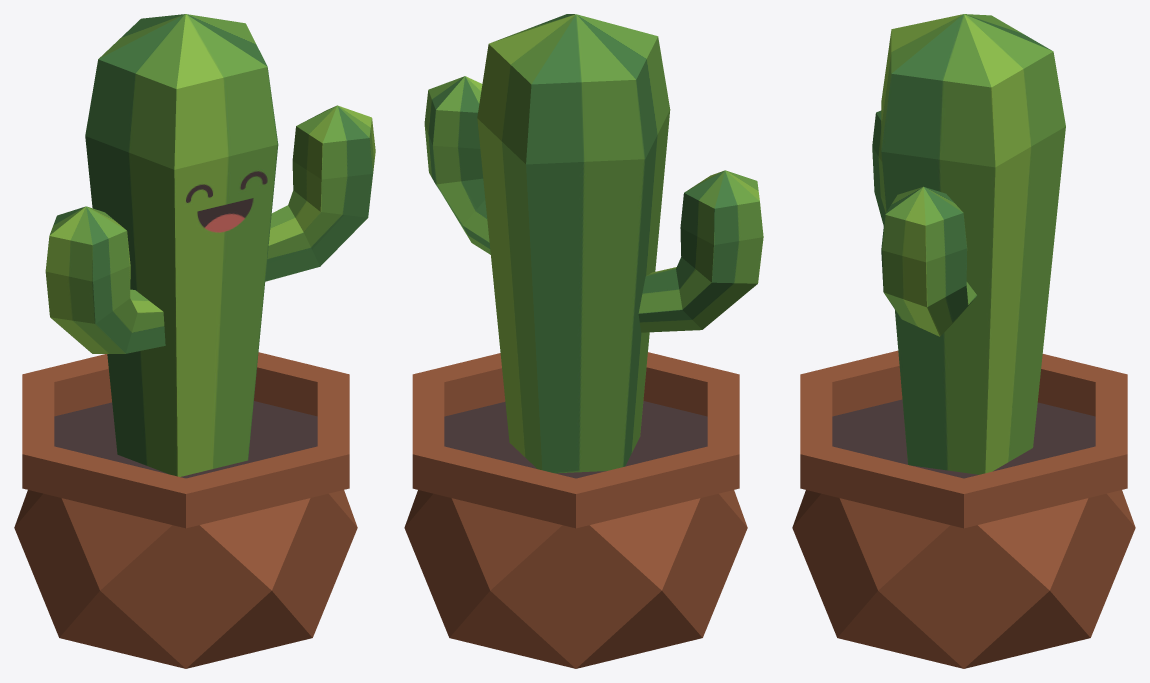
Rendered from Cactus.glb.
The picture shows the model from 3 angles, left to right: view 1: azimuth 30°, elevation 25°; view 2: azimuth 150°, elevation 25°; view 3: azimuth 270°, elevation 25°; orthographic projection.
Parts seen in each view (by area): view 1: cACTUS; view 2: cACTUS; view 3: cACTUS.
Part boxes in pixels (x1=…): cACTUS: x1=14, y1=14, x2=375, y2=668; cACTUS: x1=404, y1=14, x2=763, y2=668; cACTUS: x1=792, y1=14, x2=1135, y2=668.
Bounding box in the file's own units: 0.4354 × 0.7375 × 0.387.
1 material, 1 textured.
